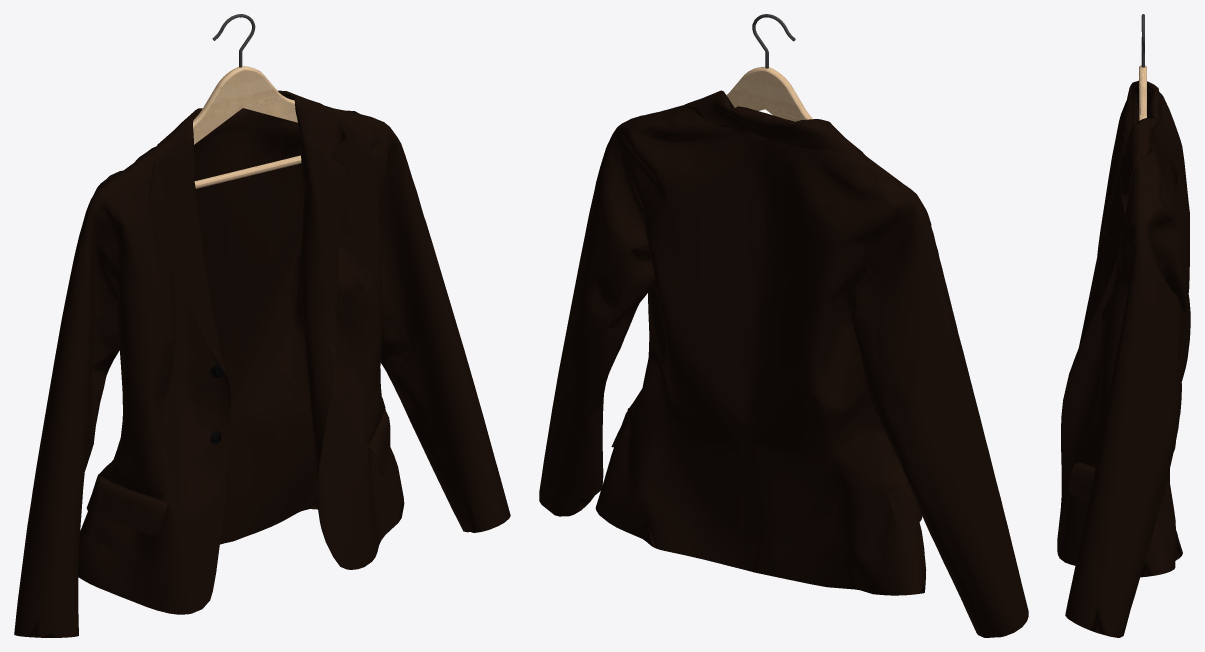
Rendered from Jacket.FBX.
The picture shows the model from 3 angles, left to right: view 1: azimuth 30°, elevation 25°; view 2: azimuth 150°, elevation 25°; view 3: azimuth 270°, elevation 25°; orthographic projection. The views are drawn at different scales.
Visible parts, largest first — view 1: jacket, hanger; view 2: jacket, hanger; view 3: jacket, hanger.
Boxes of the visible parts, x1=… form: jacket: x1=14, y1=90, x2=510, y2=637; hanger: x1=193, y1=14, x2=301, y2=188; jacket: x1=539, y1=90, x2=1028, y2=637; hanger: x1=726, y1=14, x2=812, y2=121; jacket: x1=1057, y1=80, x2=1190, y2=637; hanger: x1=1139, y1=14, x2=1146, y2=120.
Size of the model in its own units: 691 by 178 by 778.
